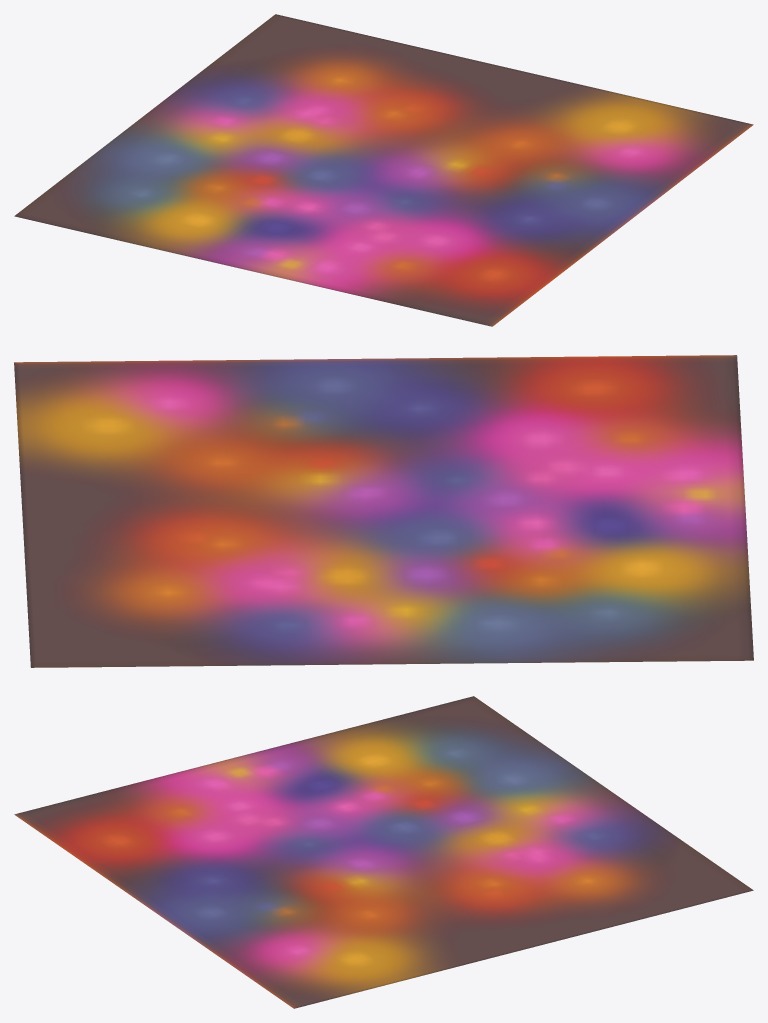
Rendered from Ground_Decal3.fbx.
The picture shows the model from 3 angles, top to bottom: view 1: azimuth 30°, elevation 25°; view 2: azimuth 150°, elevation 25°; view 3: azimuth 270°, elevation 25°; orthographic projection. The views are drawn at different scales.
Parts seen in each view (by area): view 1: Ground_Decal3; view 2: Ground_Decal3; view 3: Ground_Decal3.
Boxes of the visible parts, x1=… form: Ground_Decal3: x1=14, y1=14, x2=753, y2=326; Ground_Decal3: x1=14, y1=355, x2=753, y2=667; Ground_Decal3: x1=14, y1=696, x2=753, y2=1008.
Bounding box in the file's own units: 275 × 0 × 275.
1 material, 1 textured.
